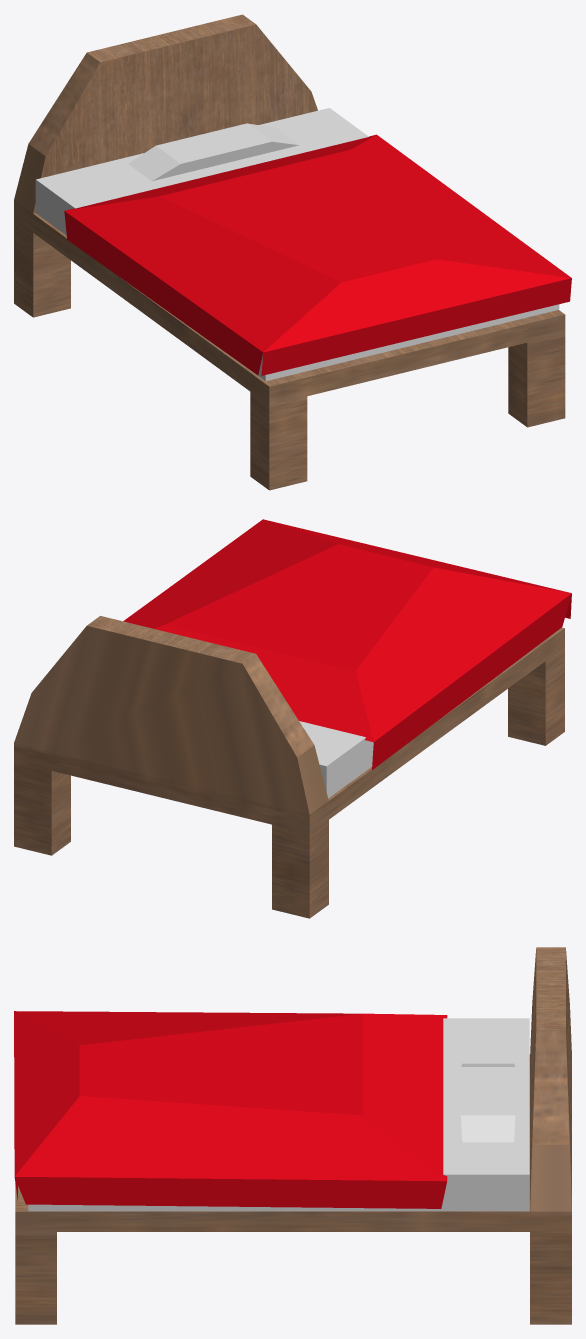
The model's file is apartmentBed.glb.
3 views of the same model, one above another, from view 1: azimuth 30°, elevation 25°; view 2: azimuth 150°, elevation 25°; view 3: azimuth 270°, elevation 25° (orthographic). The views are drawn at different scales.
Parts seen in each view (by area): view 1: Cube.001; view 2: Cube.001; view 3: Cube.001.
Part boxes in pixels (left/top/right/bottom): Cube.001: left=14, top=14, right=571, bottom=490; Cube.001: left=14, top=519, right=571, bottom=918; Cube.001: left=14, top=947, right=571, bottom=1324.
Size of the model in its own units: 6.55 by 4.73 by 9.29.
Materials: 3 (1 with a texture image).
